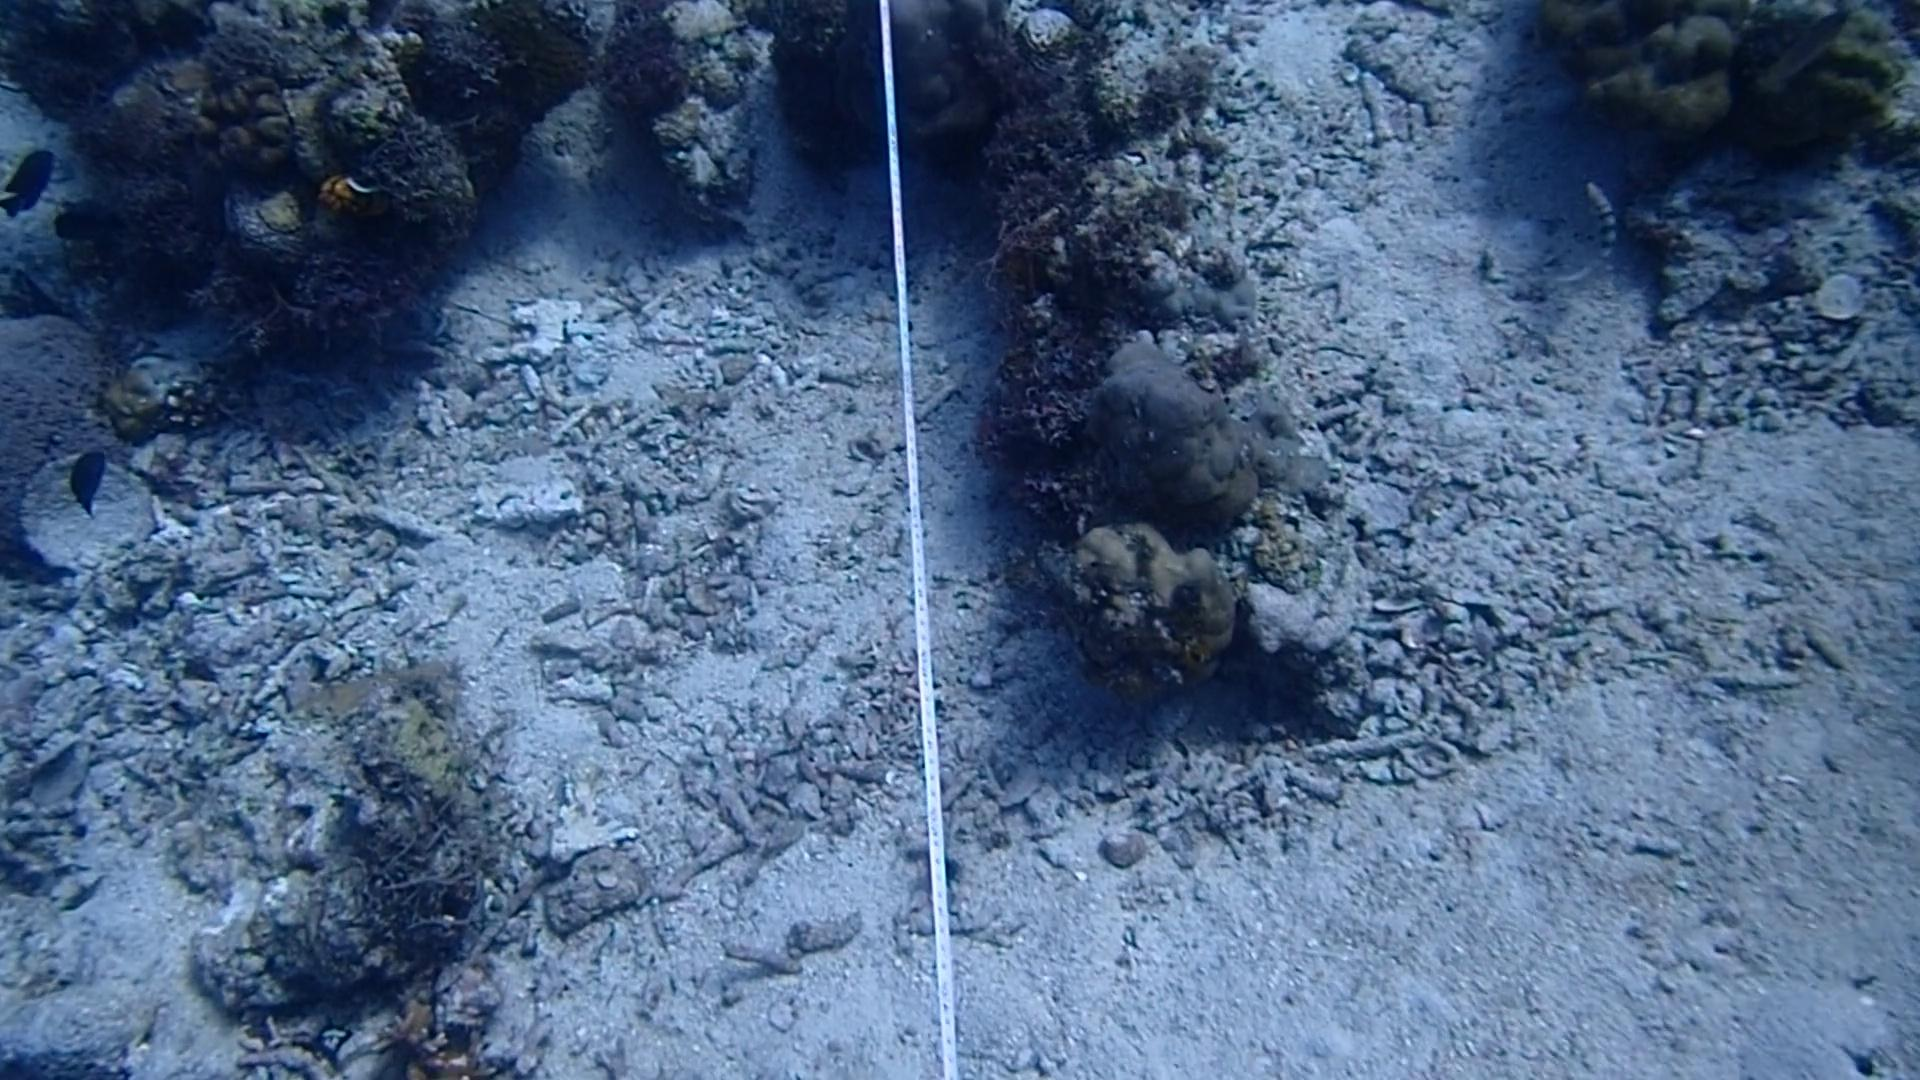Dark Fish: (0, 138, 67, 220), (63, 435, 113, 521)
Light Fish w Back Stripes: (1543, 166, 1627, 290)
